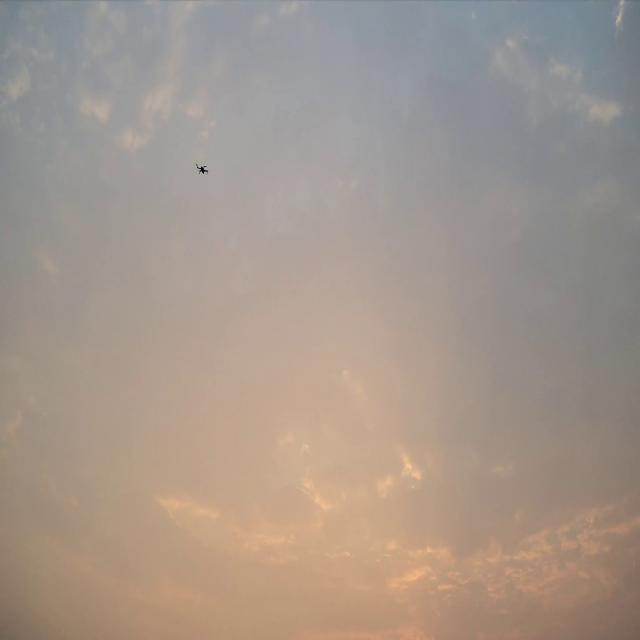drone: (195, 162, 210, 175)
